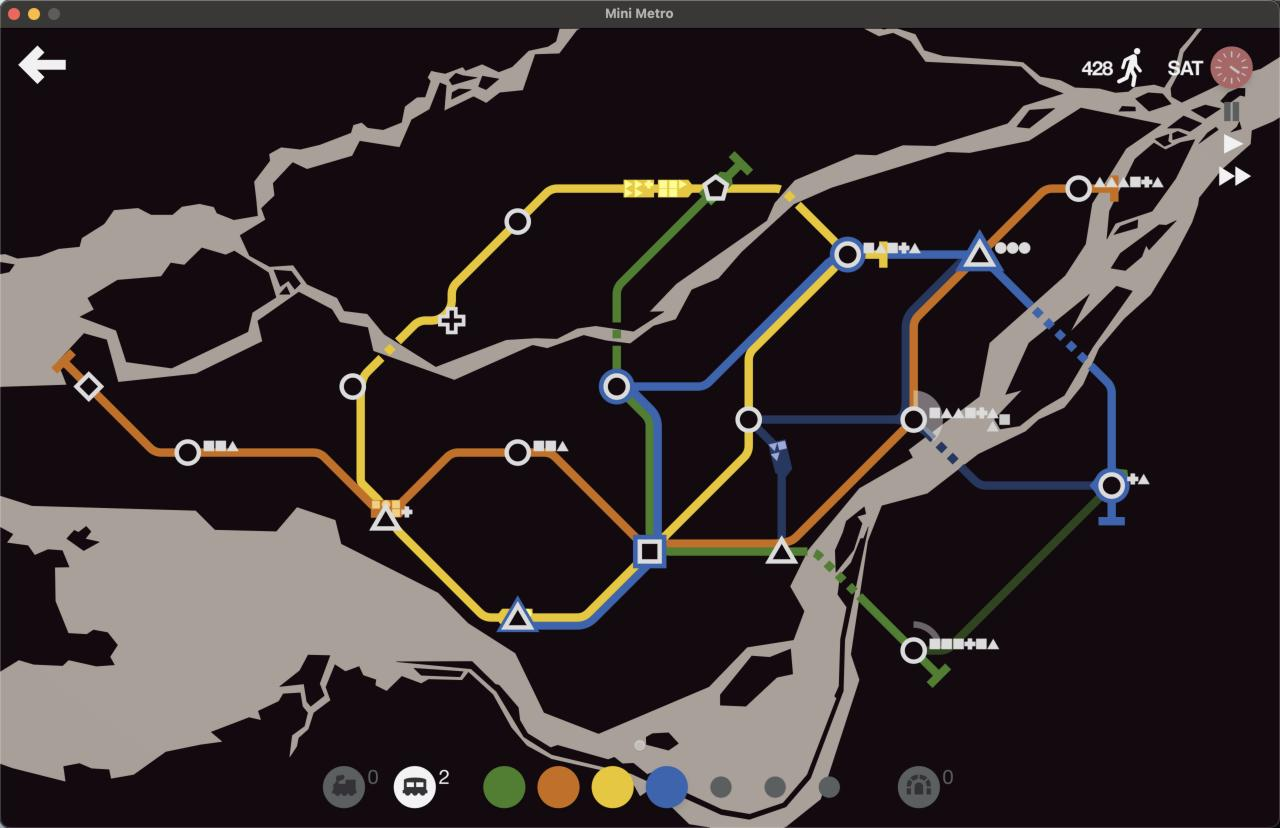BLUE LINE: (632, 258, 828, 392), (990, 272, 1117, 470), (534, 568, 644, 631), (630, 384, 662, 533), (891, 250, 968, 259), (1098, 503, 1127, 526)
DARK GREEN LINE: (612, 200, 704, 369), (793, 544, 908, 642), (625, 397, 654, 533), (667, 547, 769, 558), (921, 658, 950, 685), (728, 151, 753, 178)
ORANGE YELLOW LINE: (787, 428, 902, 545), (203, 447, 379, 512), (530, 447, 642, 538), (912, 270, 966, 408), (398, 448, 505, 511), (988, 186, 1067, 251), (97, 394, 172, 457), (665, 539, 779, 547), (52, 351, 83, 380), (1093, 174, 1120, 202)
YELLOW LINE: (745, 268, 835, 407), (393, 531, 509, 622), (662, 433, 754, 539), (730, 184, 839, 246), (530, 563, 638, 621), (524, 184, 702, 213), (448, 229, 512, 307), (362, 317, 439, 380), (357, 385, 385, 500), (867, 242, 888, 271)
